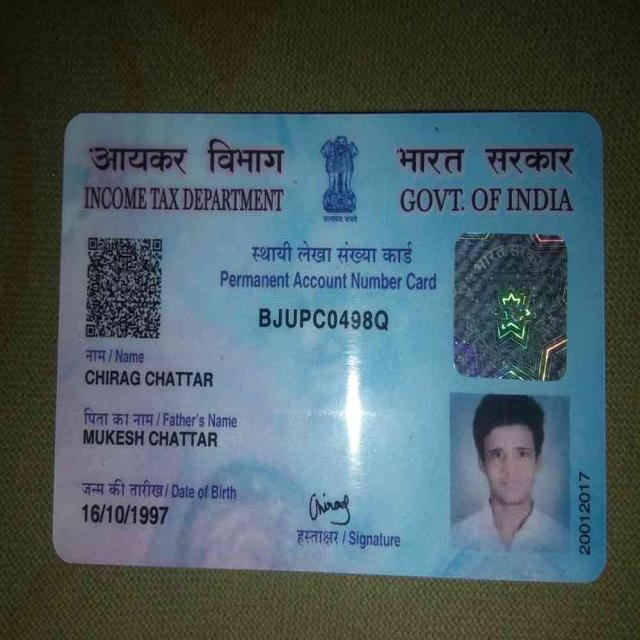pan_card: (52, 119, 602, 568)
